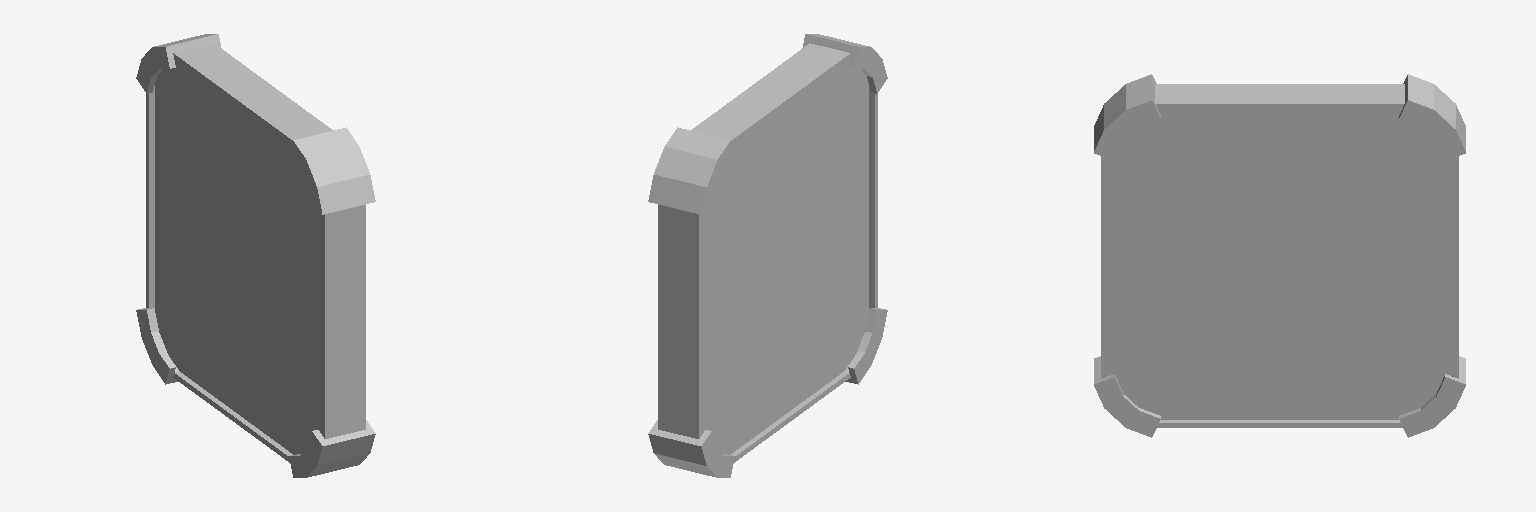
Rendered from squareholosign.obj.
The picture shows the model from 3 angles: view 1: azimuth 30°, elevation 25°; view 2: azimuth 150°, elevation 25°; view 3: azimuth 270°, elevation 25°; orthographic projection.
Parts seen in each view (by area): view 1: Cube1; view 2: Cube1; view 3: Cube1.
Boxes of the visible parts, x1,y1,x2,y2 form: Cube1: [136, 34, 375, 477]; Cube1: [648, 34, 887, 477]; Cube1: [1094, 74, 1465, 437].
Size of the model in its own units: 0.3437 by 2.08 by 2.08.